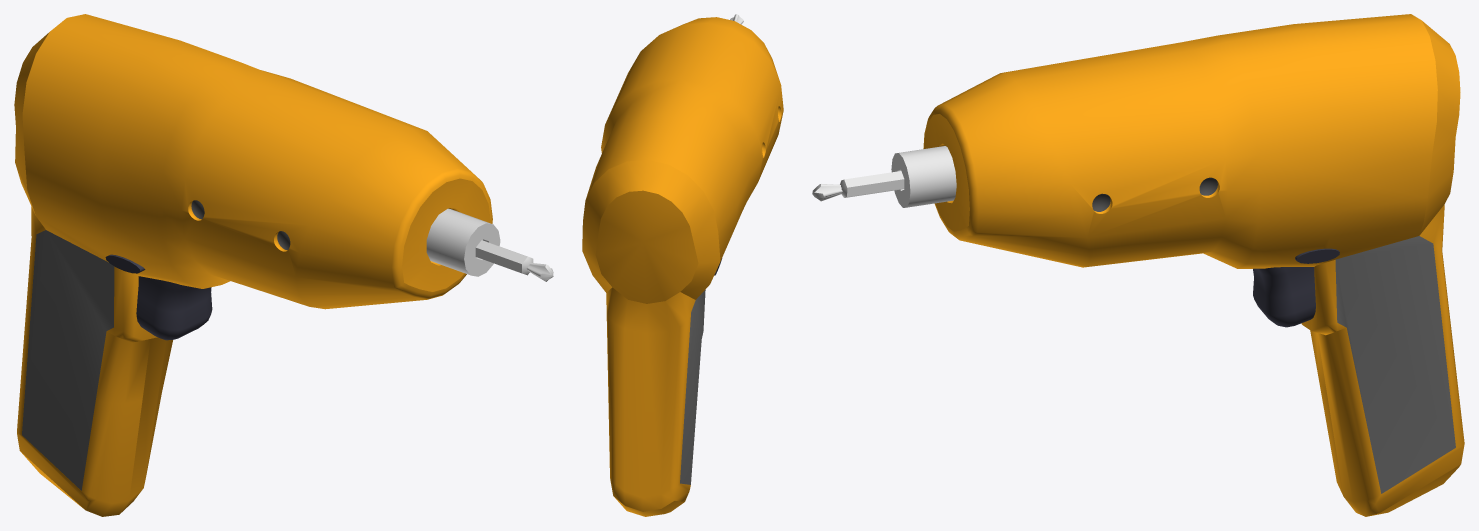
The model's file is screwdriver_New.fbx.
3 renders of one model, left to right at view 1: azimuth 30°, elevation 25°; view 2: azimuth 150°, elevation 25°; view 3: azimuth 270°, elevation 25°, orthographic. The views are drawn at different scales.
Parts seen in each view (by area): view 1: pCylinder26, trigger, pCylinder30, pCylinder27; view 2: pCylinder26; view 3: pCylinder26, trigger, pCylinder30, pCylinder27.
Boxes of the visible parts, x1,y1,x2,y2 form: pCylinder26: [14, 14, 492, 516]; trigger: [136, 276, 212, 340]; pCylinder30: [426, 208, 500, 276]; pCylinder27: [475, 240, 533, 275]; pCylinder26: [582, 17, 783, 516]; pCylinder26: [923, 14, 1464, 516]; trigger: [1253, 267, 1315, 327]; pCylinder30: [891, 146, 956, 207]; pCylinder27: [840, 171, 904, 197].
Size of the model in its own units: 8.2 by 13.99 by 16.83.
